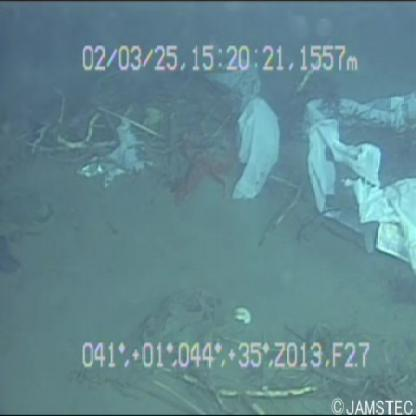Rác: (294, 82, 416, 279), (194, 46, 284, 221)
